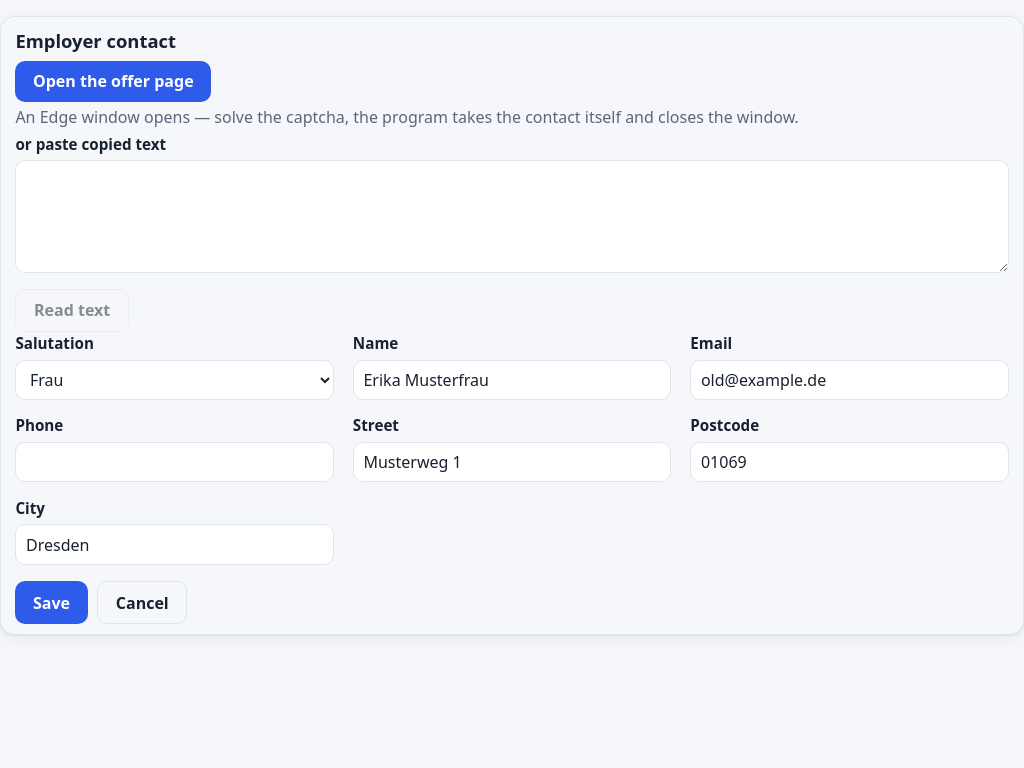
Scenario: ContactDialog › a found field replaces only itself: what the person had stays for the rest
Click the button "Open the offer page".
click(113, 81)  # box [15, 61, 211, 102]
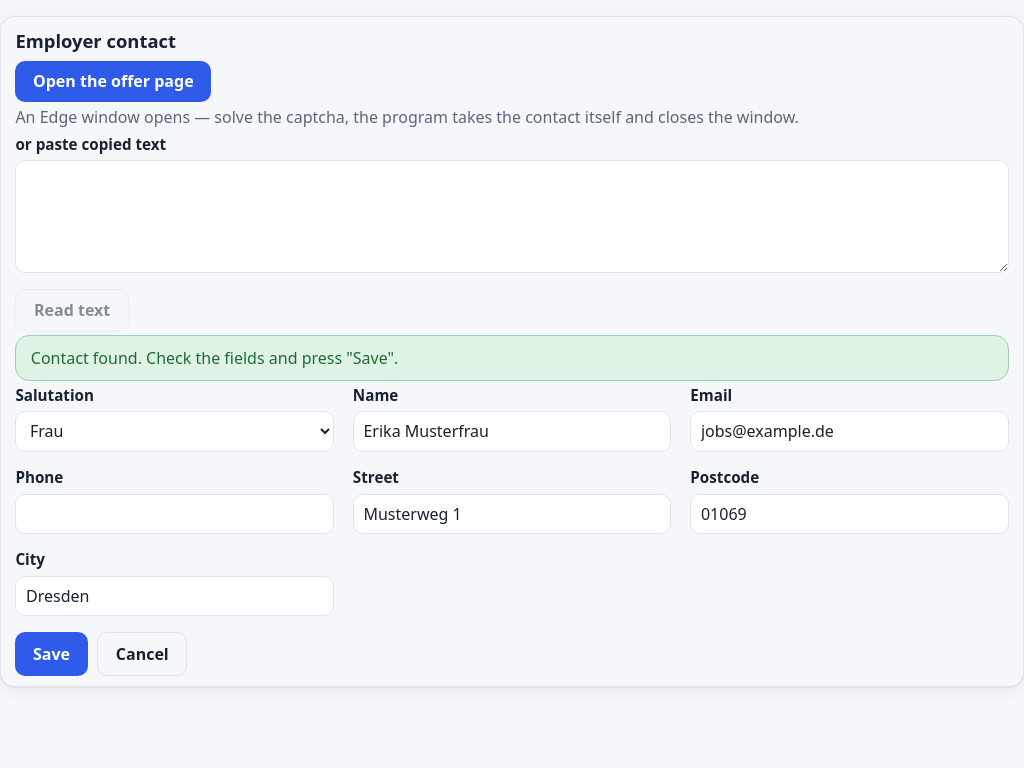
Expected: the field labelled "Street" holds "Musterweg 1", [353, 494, 671, 534]
Now the text "Contact found. Check the fields and press \"Save\"." is shown, box [15, 335, 1009, 380]
Now the field labelled "Email" holds "jobs@example.de", box [690, 411, 1009, 452]
